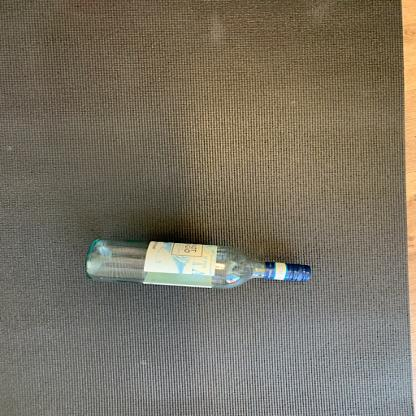trash: (80, 235, 314, 297)
